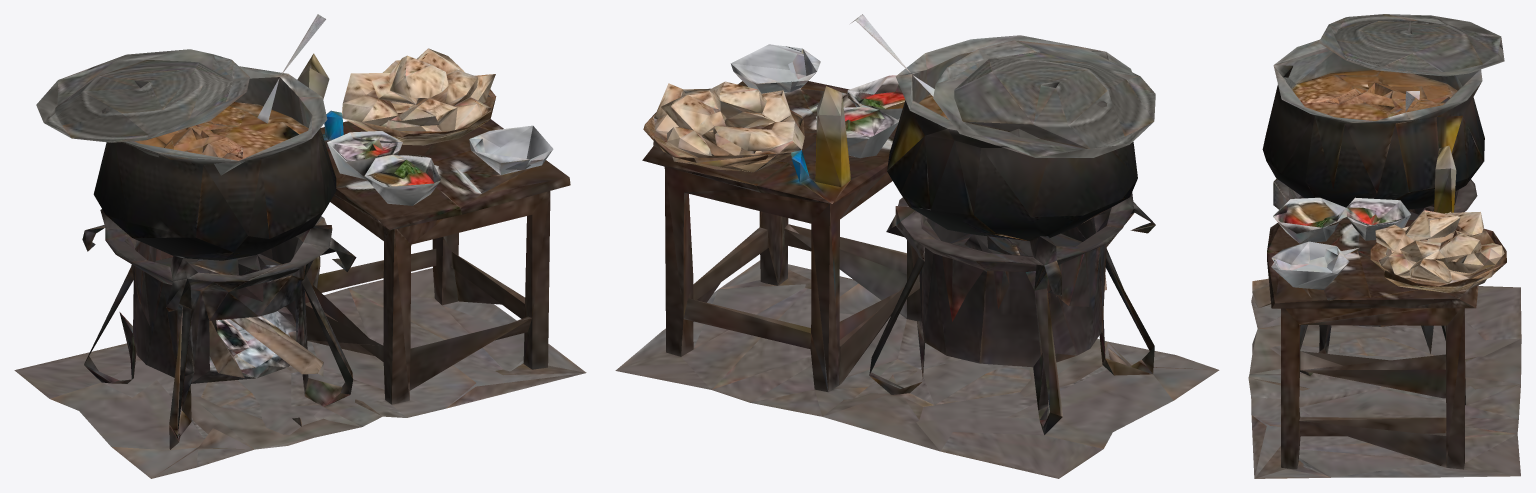
Rendered from fulpot.glb.
The picture shows the model from 3 angles, left to right: view 1: azimuth 30°, elevation 25°; view 2: azimuth 150°, elevation 25°; view 3: azimuth 270°, elevation 25°; orthographic projection. The views are drawn at different scales.
Bounding box in the file's own units: 1.89 × 1.37 × 1.09.
1 material, 1 textured.
